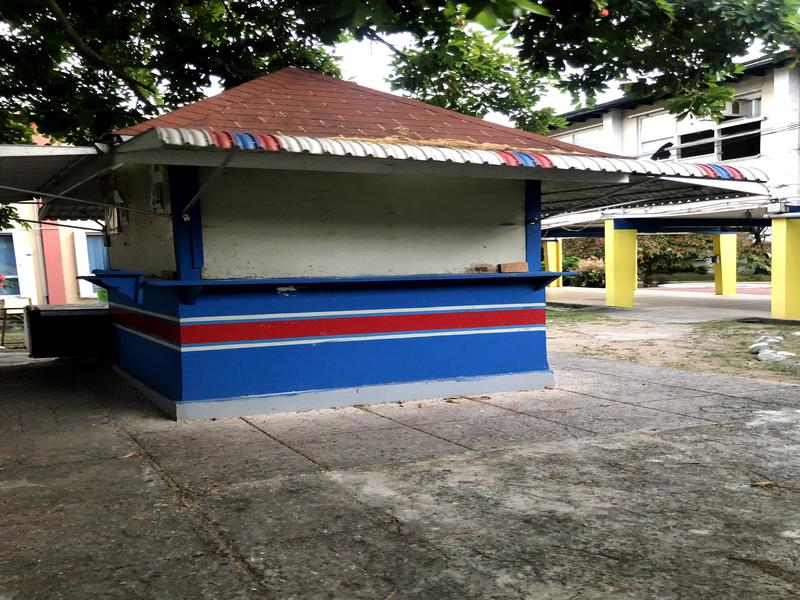18.0050609_-76.7496662_auntyjackie: (1, 25, 785, 432)
